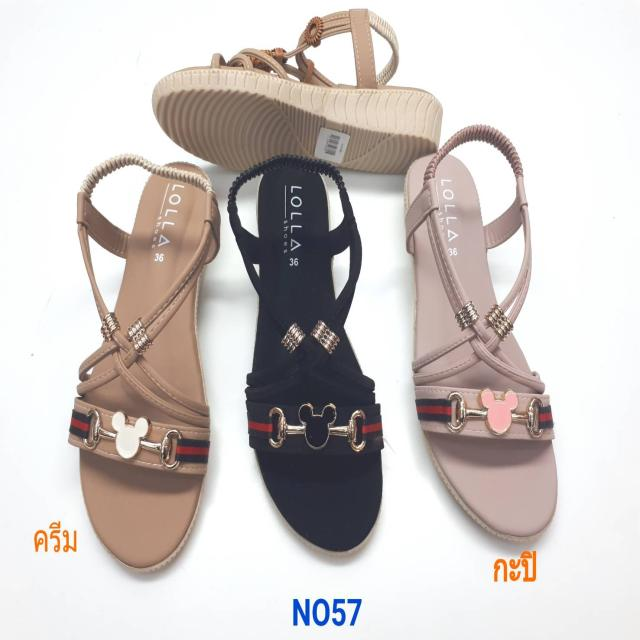black: (247, 156, 380, 551)
cream: (73, 163, 211, 572)
kapi: (399, 149, 559, 545)
